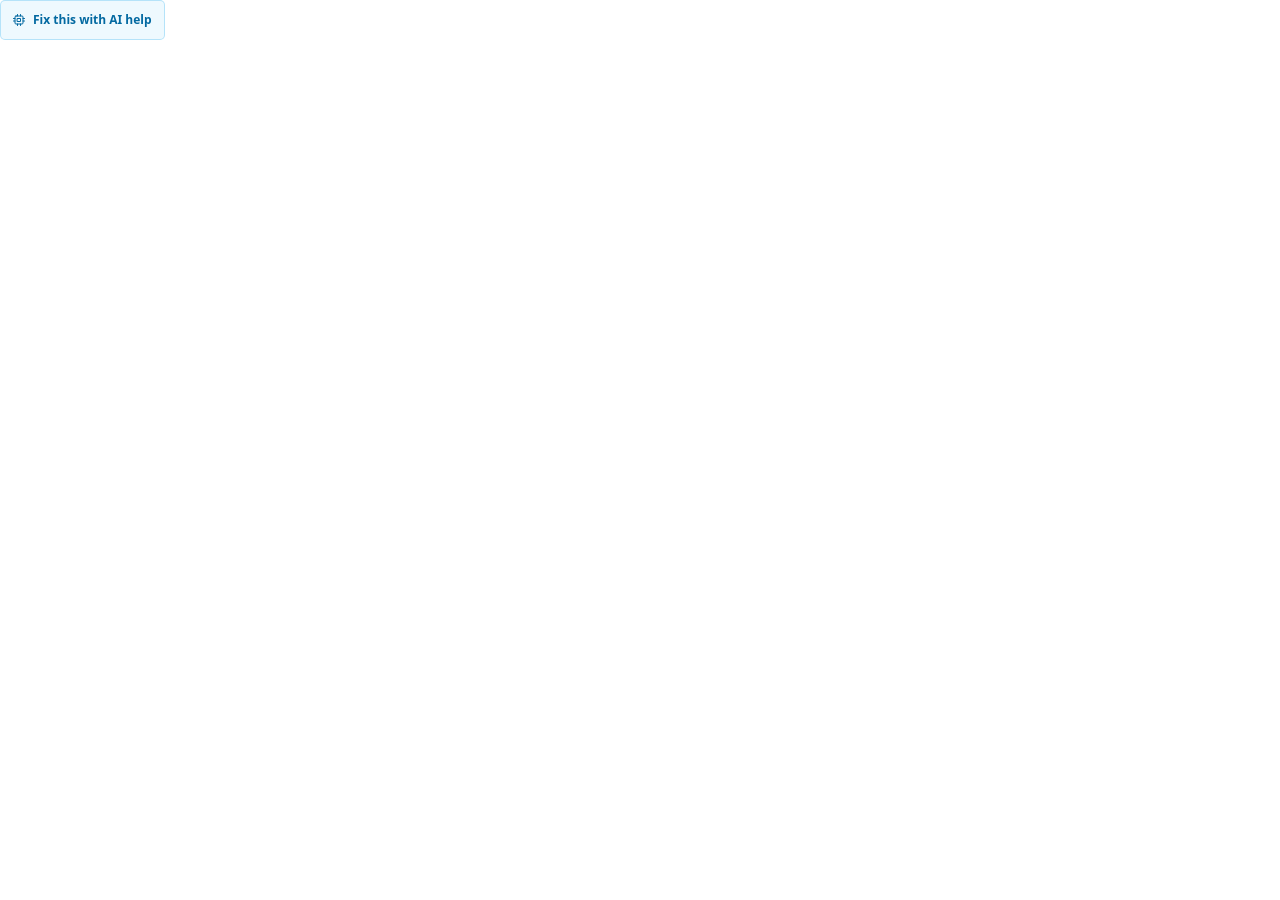
applying a remediation › asks once more before it writes, and writes nothing if the answer is no
The image size is (1280, 900).
Later steps or results of the test are not shown.
Click the button "Fix this with AI help" at (82, 20), box [0,0,165,40]
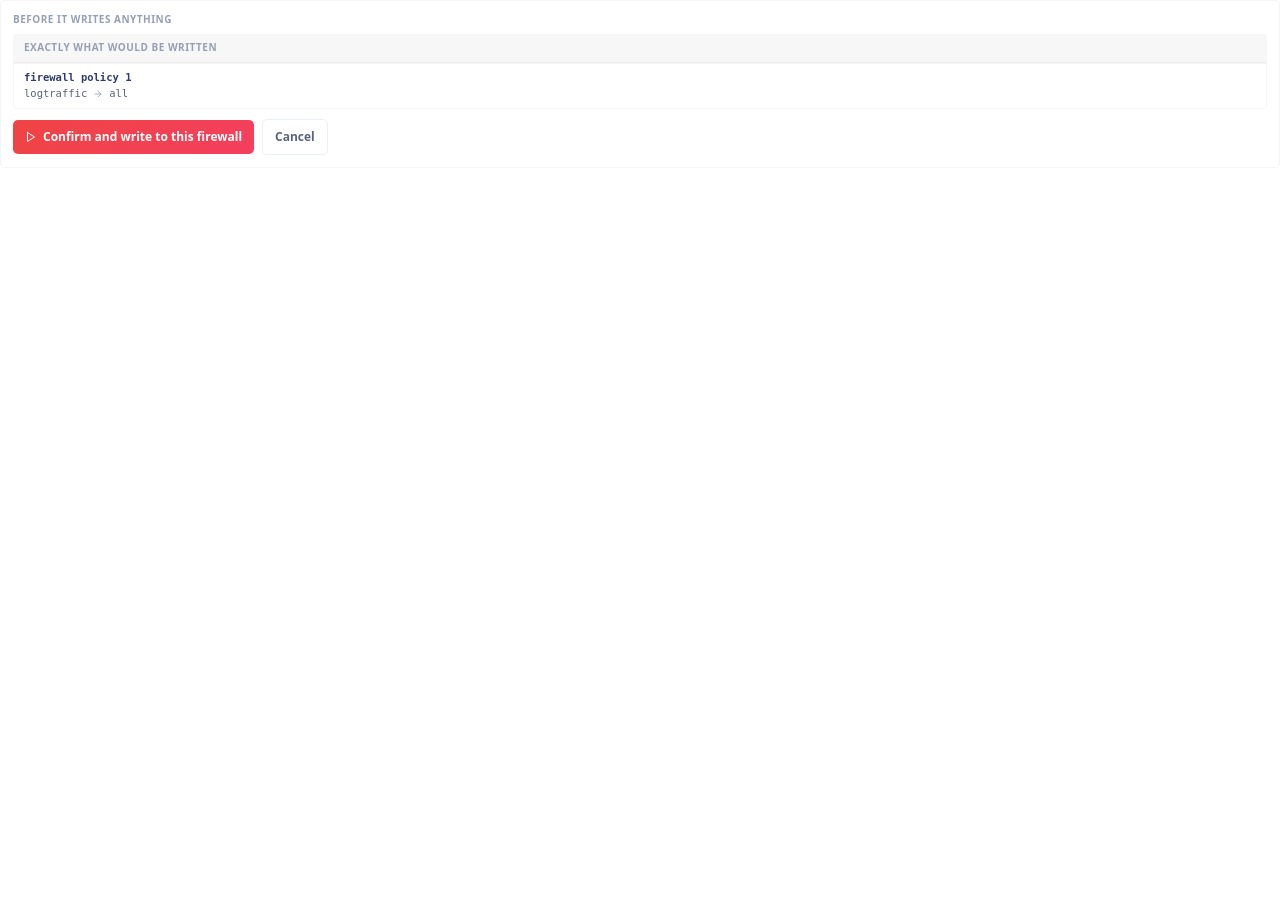
Click the button "Confirm and write to this firewall" at (134, 136), box [13,120,254,154]
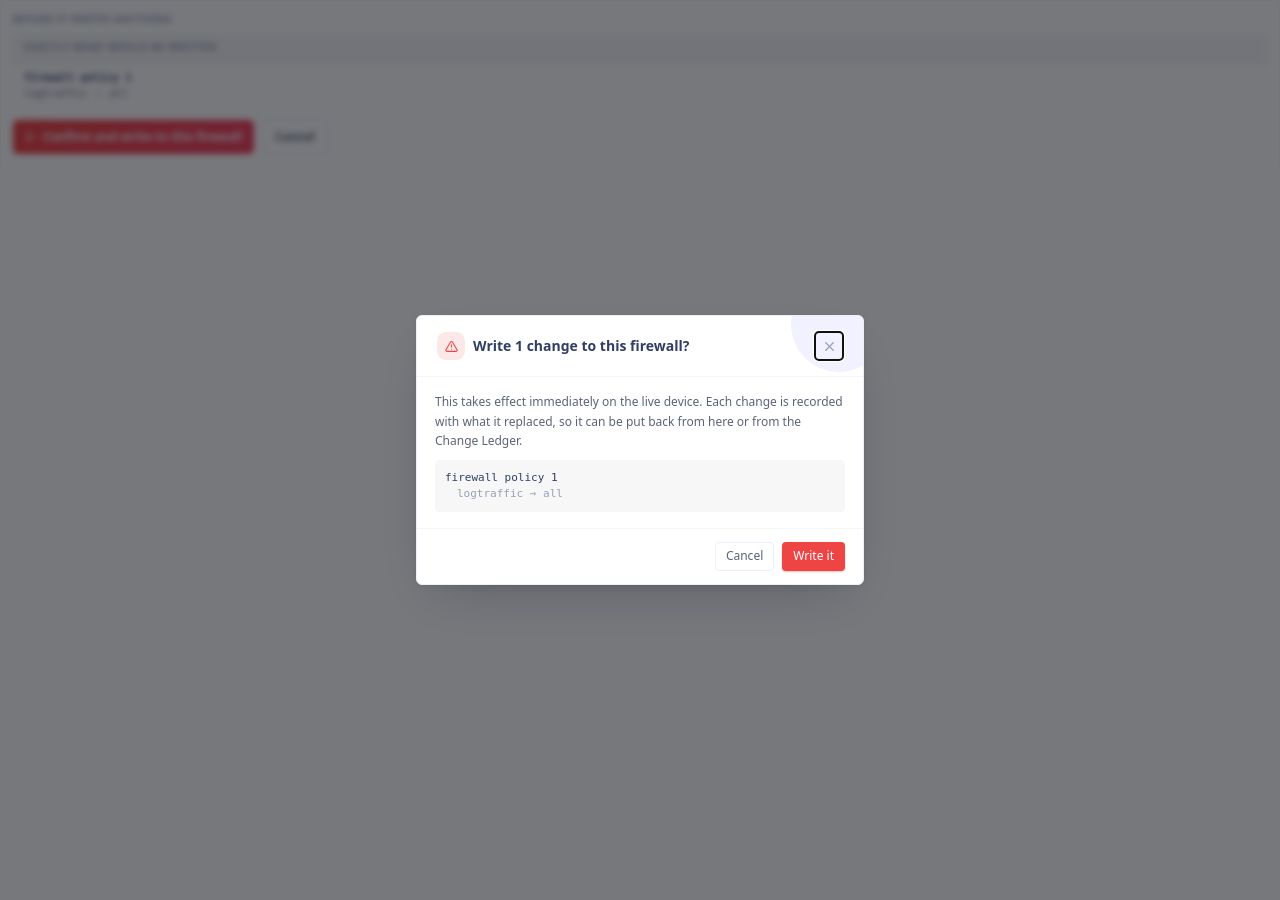
Expected: the text "Write 1 change to this firewall?" is shown, [473,336,689,357]
Expected: the text "logtraffic → all" is shown, [457,487,563,500]
